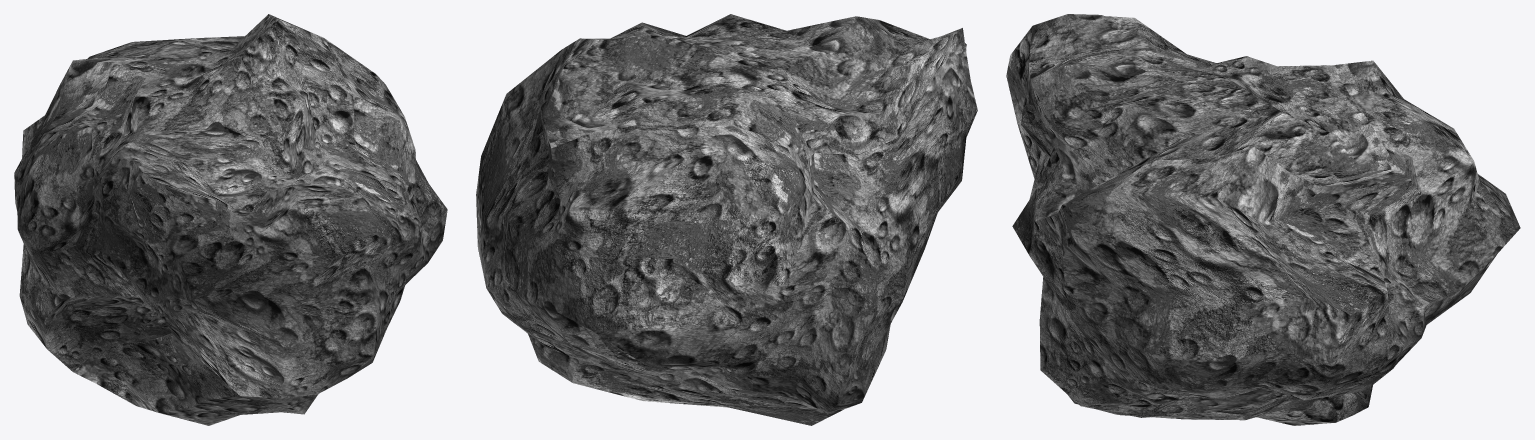
Rendered from Asteroid002.FBX.
The picture shows the model from 3 angles, left to right: view 1: azimuth 30°, elevation 25°; view 2: azimuth 150°, elevation 25°; view 3: azimuth 270°, elevation 25°; orthographic projection. The views are drawn at different scales.
Visible parts, largest first — view 1: Box001; view 2: Box001; view 3: Box001.
Part boxes in pixels (x1,y1,x2,y2): Box001: (14,14,447,425); Box001: (476,14,977,425); Box001: (1006,14,1520,425).
Bounding box in the file's own units: 104 × 87.3 × 114.
